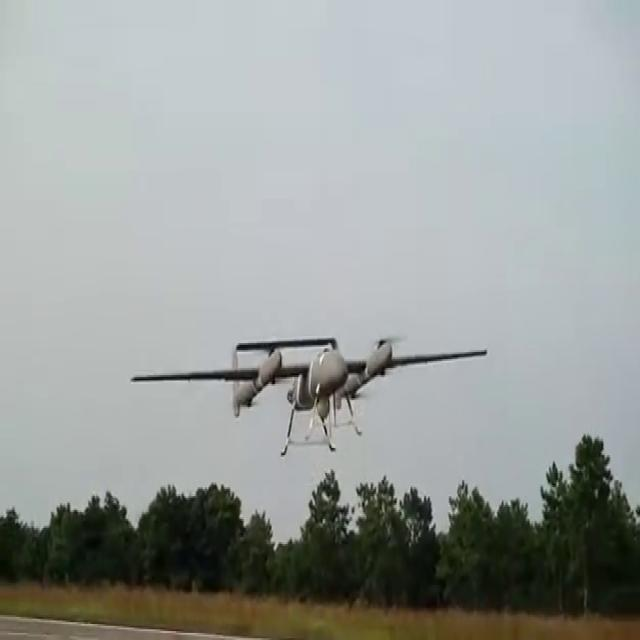iha: (132, 359, 491, 402)
